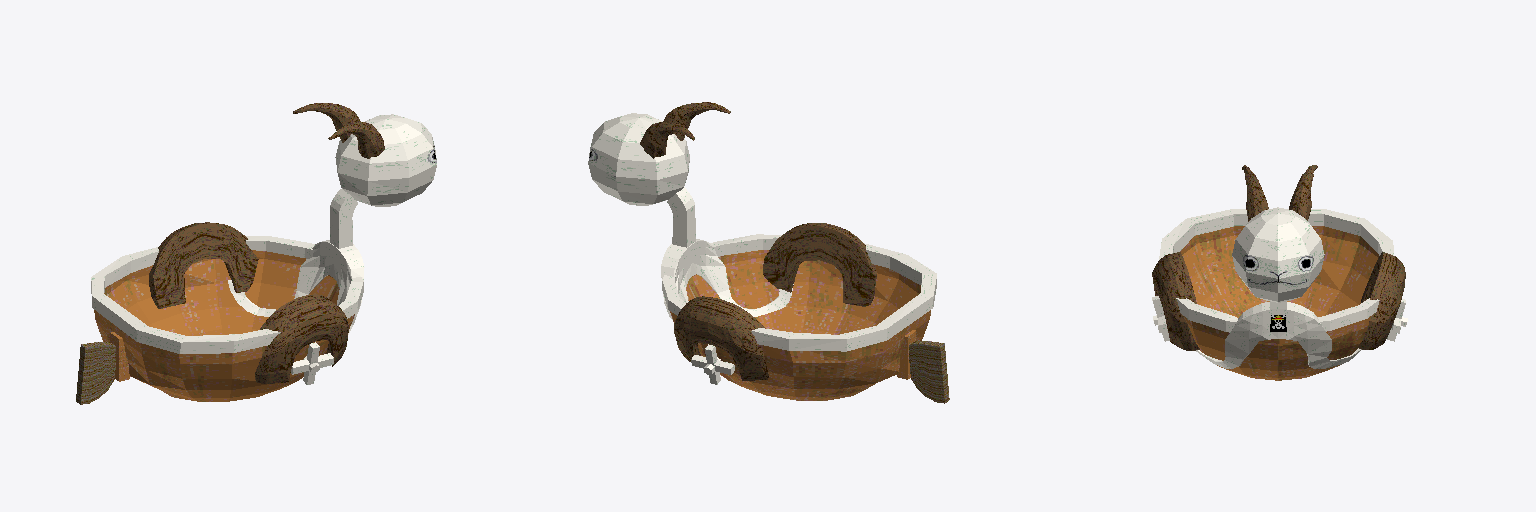
3 views of the same model, side by side, from view 1: azimuth 30°, elevation 25°; view 2: azimuth 150°, elevation 25°; view 3: azimuth 270°, elevation 25° (orthographic).
Visible parts, largest first — view 1: Sphere.001, Sphere, Cube.003, Cylinder.011_Cylinder.013, Cube.004_Cube.005, Cube_Cube.001, Cube.001_Cube.002, Cylinder, Cylinder.013_Cylinder.015, Cone.001, Cone, Cylinder.012_Cylinder.014 (+1 smaller); view 2: Sphere.001, Sphere, Cube.004_Cube.005, Cylinder.011_Cylinder.013, Cube.003, Cube_Cube.001, Cube.001_Cube.002, Cylinder, Cone, Cylinder.012_Cylinder.014, Cone.001, Cylinder.013_Cylinder.015; view 3: Sphere.001, Sphere, Cube_Cube.001, Cylinder.011_Cylinder.013, Cube.003, Cube.004_Cube.005, Cylinder.012_Cylinder.014, Cylinder.013_Cylinder.015, Cone, Cone.001.
Boxes of the visible parts, x1=… form: Sphere.001: x1=94, y1=250, x2=354, y2=401; Sphere: x1=335, y1=114, x2=436, y2=206; Cube.003: x1=149, y1=222, x2=258, y2=308; Cylinder.011_Cylinder.013: x1=91, y1=247, x2=280, y2=353; Cube.004_Cube.005: x1=255, y1=294, x2=348, y2=383; Cube_Cube.001: x1=296, y1=240, x2=364, y2=317; Cube.001_Cube.002: x1=76, y1=342, x2=115, y2=404; Cylinder: x1=330, y1=189, x2=357, y2=248; Cylinder.013_Cylinder.015: x1=245, y1=236, x2=314, y2=258; Cone.001: x1=328, y1=122, x2=384, y2=158; Cone: x1=293, y1=103, x2=360, y2=142; Cylinder.012_Cylinder.014: x1=339, y1=277, x2=363, y2=318; Sphere.001: x1=670, y1=250, x2=930, y2=400; Sphere: x1=588, y1=113, x2=689, y2=205; Cube.004_Cube.005: x1=763, y1=223, x2=876, y2=306; Cylinder.011_Cylinder.013: x1=751, y1=243, x2=936, y2=351; Cube.003: x1=674, y1=296, x2=768, y2=380; Cube_Cube.001: x1=661, y1=239, x2=728, y2=316; Cube.001_Cube.002: x1=909, y1=340, x2=949, y2=403; Cylinder: x1=667, y1=187, x2=695, y2=247; Cone: x1=640, y1=122, x2=694, y2=158; Cylinder.012_Cylinder.014: x1=710, y1=234, x2=781, y2=256; Cone.001: x1=663, y1=102, x2=730, y2=140; Cylinder.013_Cylinder.015: x1=662, y1=275, x2=685, y2=315; Sphere.001: x1=1180, y1=226, x2=1378, y2=380; Sphere: x1=1232, y1=207, x2=1324, y2=302; Cube_Cube.001: x1=1225, y1=302, x2=1331, y2=353; Cylinder.011_Cylinder.013: x1=1159, y1=209, x2=1393, y2=259; Cube.003: x1=1358, y1=252, x2=1405, y2=349; Cube.004_Cube.005: x1=1152, y1=252, x2=1199, y2=350; Cylinder.012_Cylinder.014: x1=1176, y1=298, x2=1237, y2=332; Cylinder.013_Cylinder.015: x1=1318, y1=298, x2=1379, y2=331; Cone: x1=1289, y1=165, x2=1317, y2=220; Cone.001: x1=1242, y1=165, x2=1268, y2=221.
Size of the model in its own units: 6.68 by 4.41 by 4.15.
Materials: 1 (1 with a texture image).